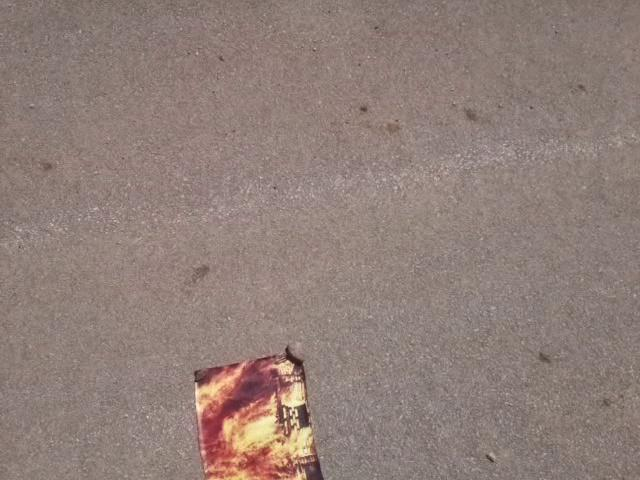fire-poster: (190, 342, 327, 479)
